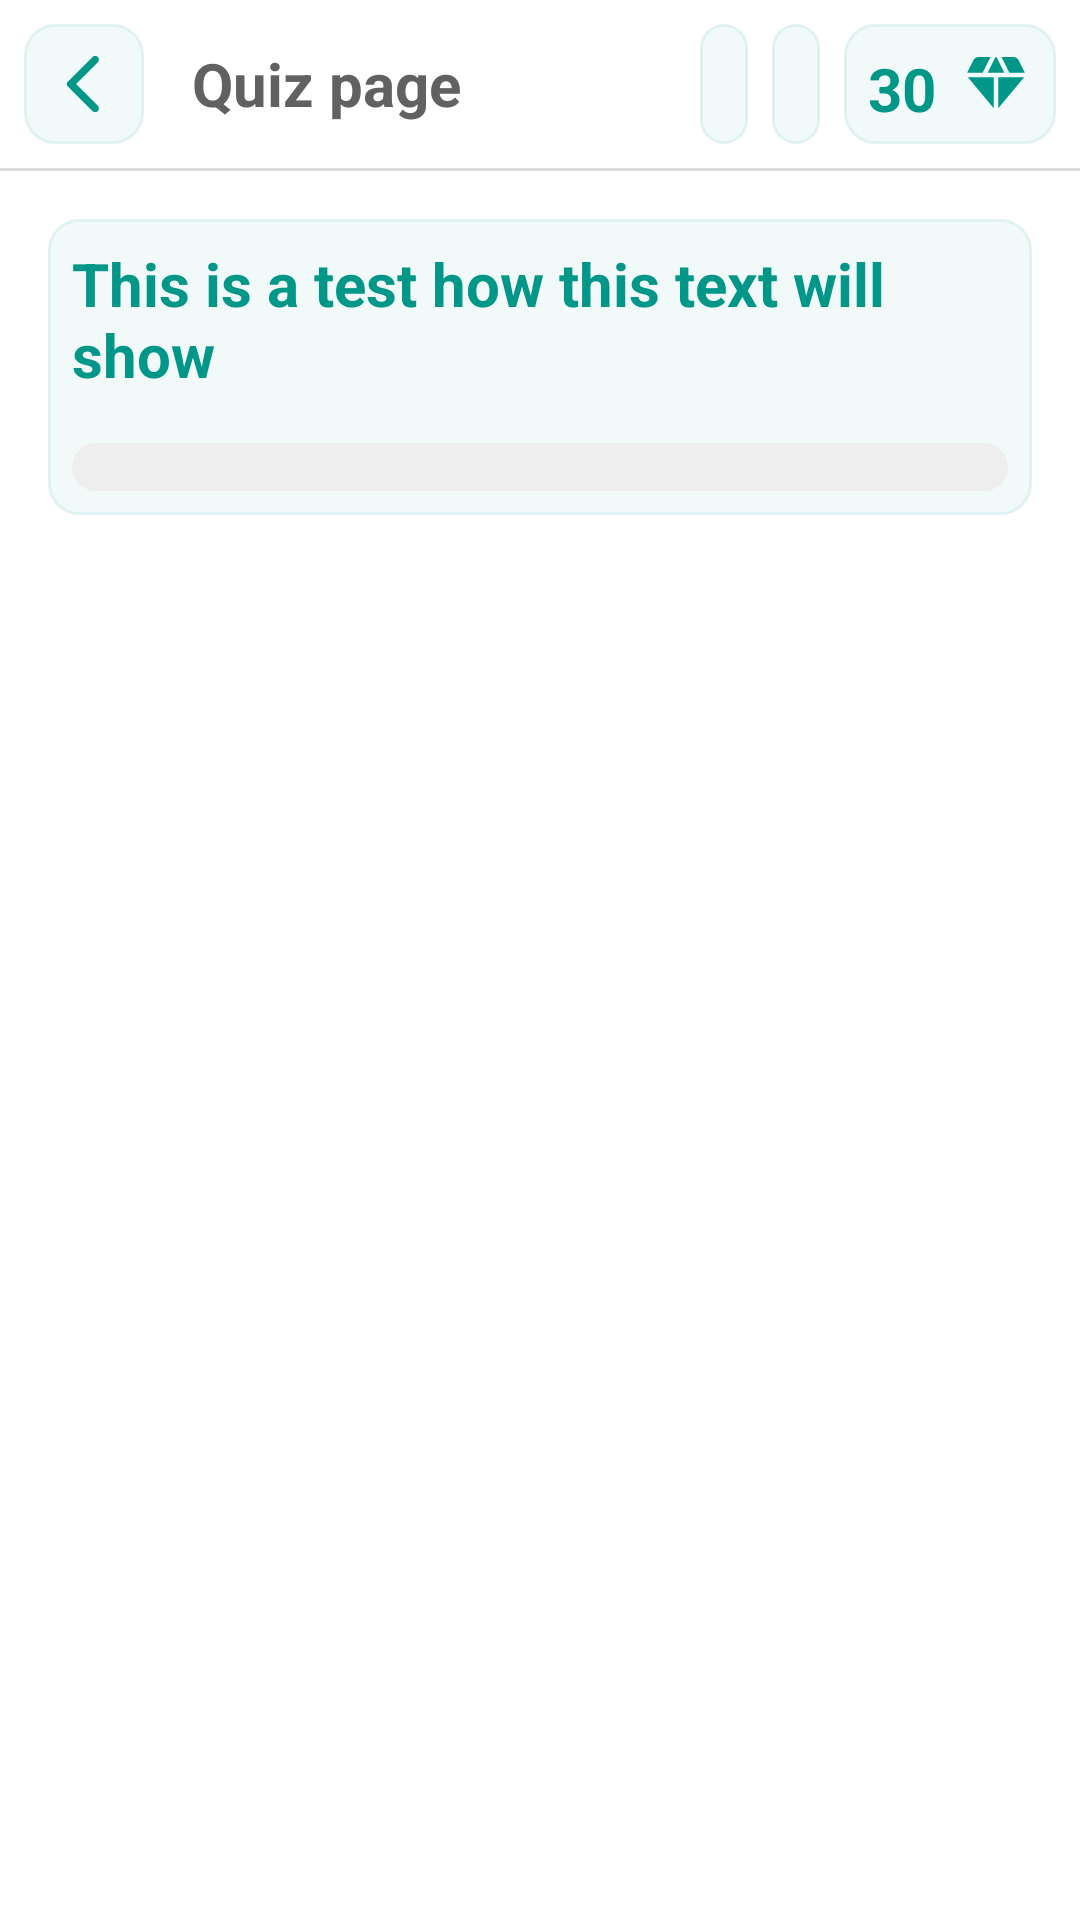

Named icons in this screenshot (1080 x 1920) and their centers, (x=x, y=y):
back: (x=84, y=84)
